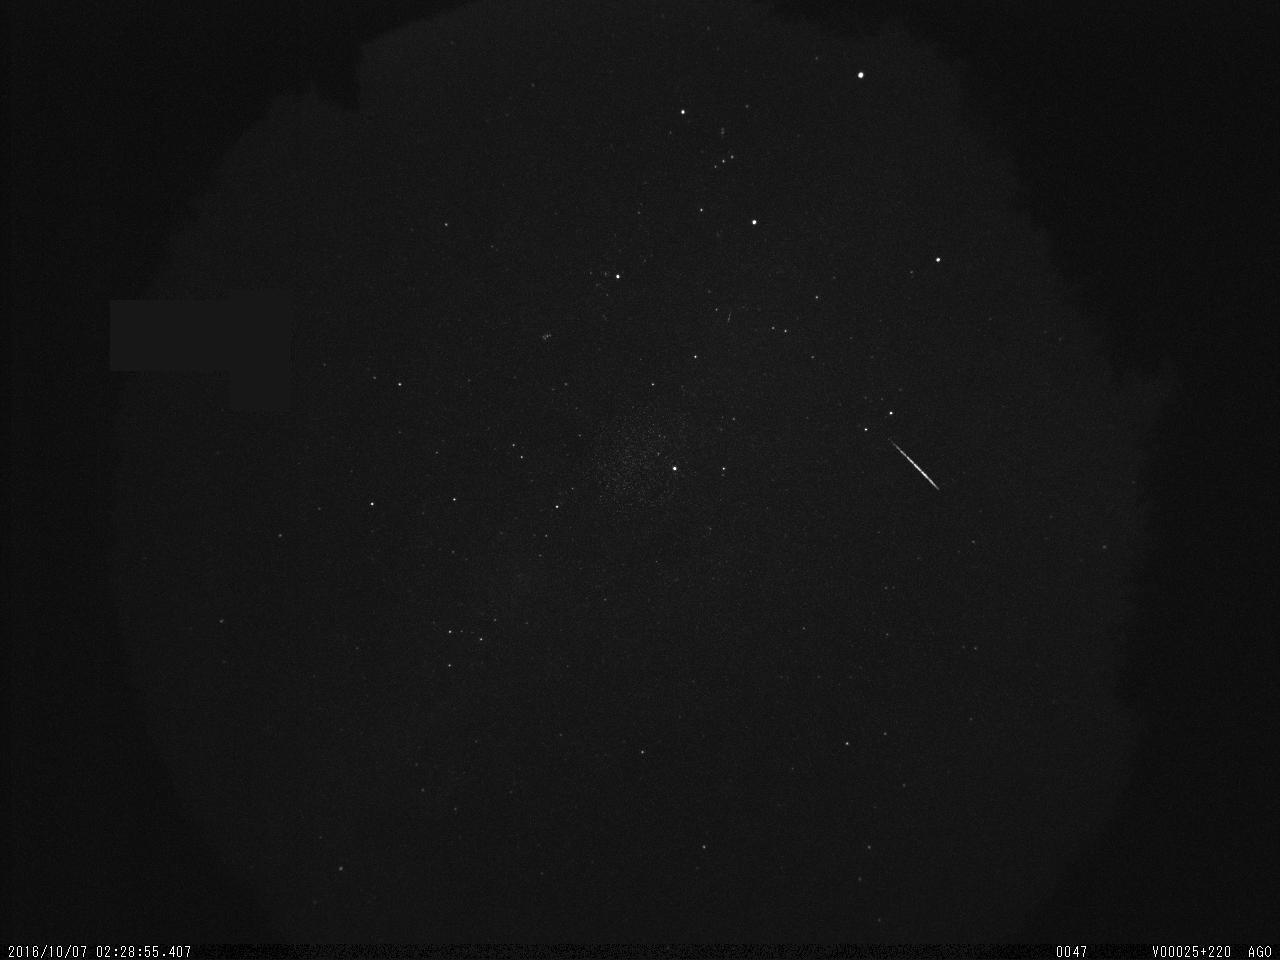Meteor: (886, 436, 940, 492)
